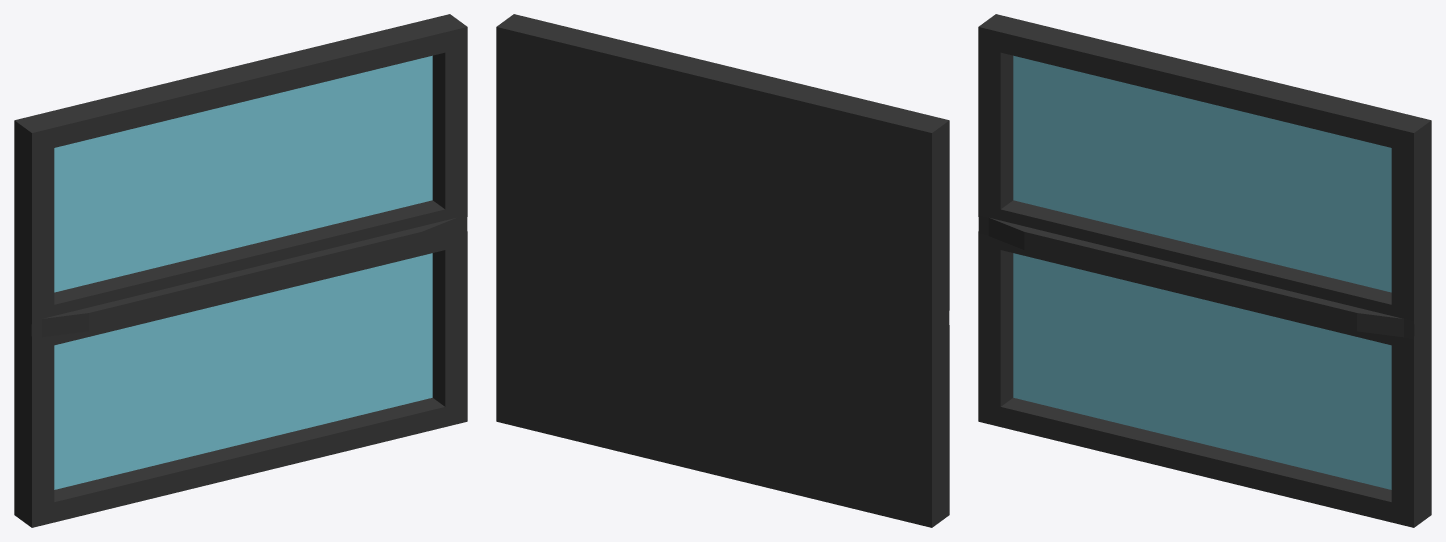
File: window.fbx
The picture shows the model from 3 angles, left to right: view 1: azimuth 30°, elevation 25°; view 2: azimuth 150°, elevation 25°; view 3: azimuth 330°, elevation 25°; orthographic projection.
Visible parts, largest first — view 1: Cube.011; view 2: Cube.011; view 3: Cube.011.
Boxes of the visible parts, box(x1,y1,x2,y2) form: Cube.011: box(14, 14, 467, 527); Cube.011: box(496, 14, 949, 527); Cube.011: box(978, 14, 1431, 527).
Bounding box in the file's own units: 2863 × 2480 × 264.
